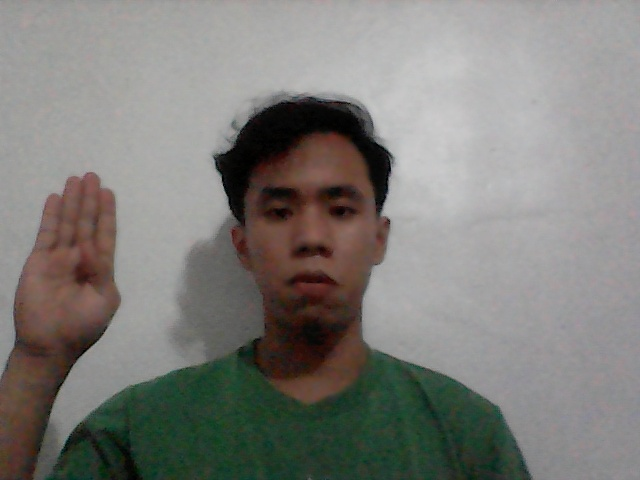B: (7, 162, 158, 379)
